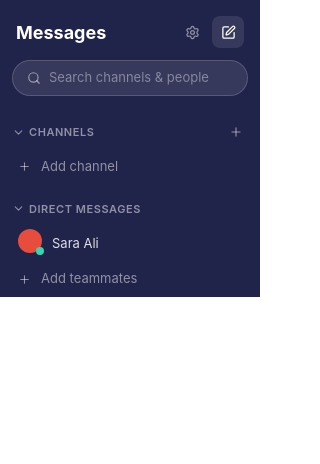
Test case: Sidebar actions › keeps the new channel name when creation fails and offers an explicit submit button
Click the button named "New channel" at (228, 32), box [212, 16, 244, 48]
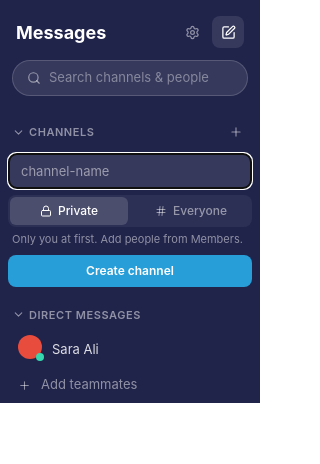
Type "Release plans" into the field named "Channel name" at (130, 170), box [8, 152, 252, 188]
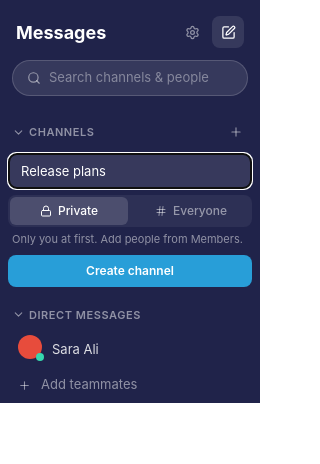
Click the button "Create channel" at (130, 270), box [8, 254, 252, 286]
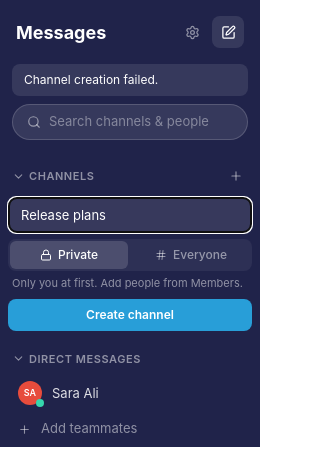
expect the message reads "Channel creation failed.": met, box [24, 72, 158, 87]
